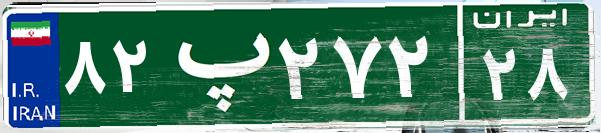2: (385, 28, 445, 110), (273, 28, 330, 110), (475, 38, 525, 113), (110, 28, 158, 105)
7: (330, 28, 385, 110)
8: (57, 26, 110, 107), (525, 38, 570, 115)
پ: (158, 15, 273, 115)
